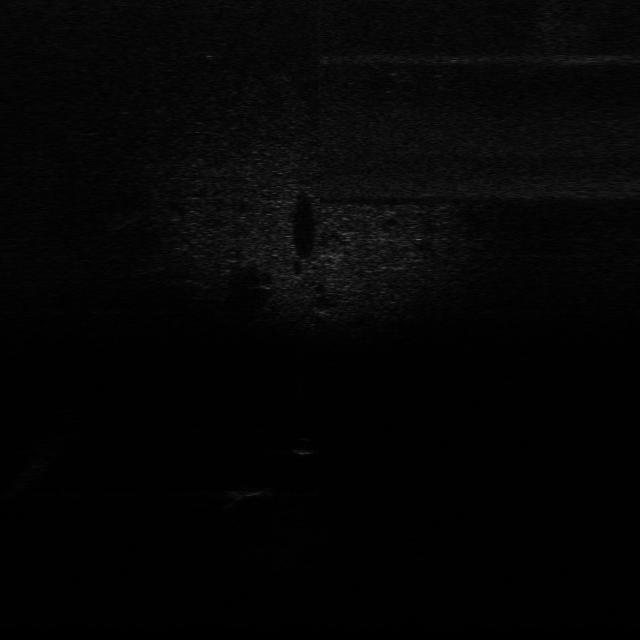ball: (288, 434, 322, 456)
square cage: (224, 482, 276, 502)
